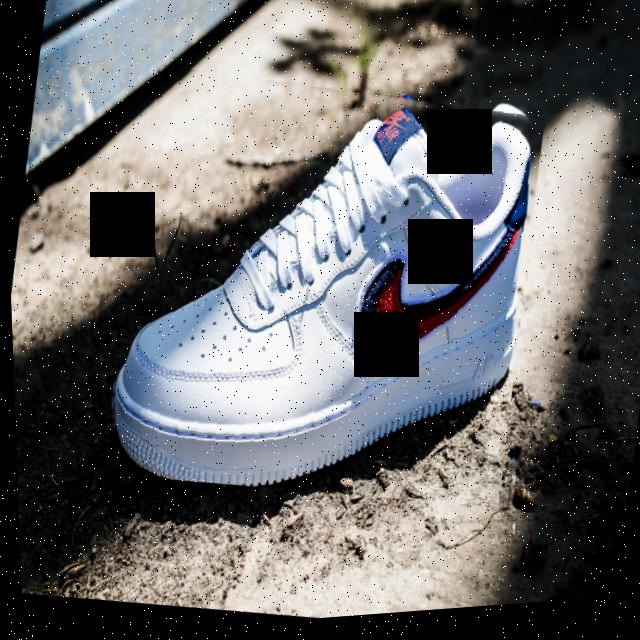shoe: (86, 44, 558, 538)
